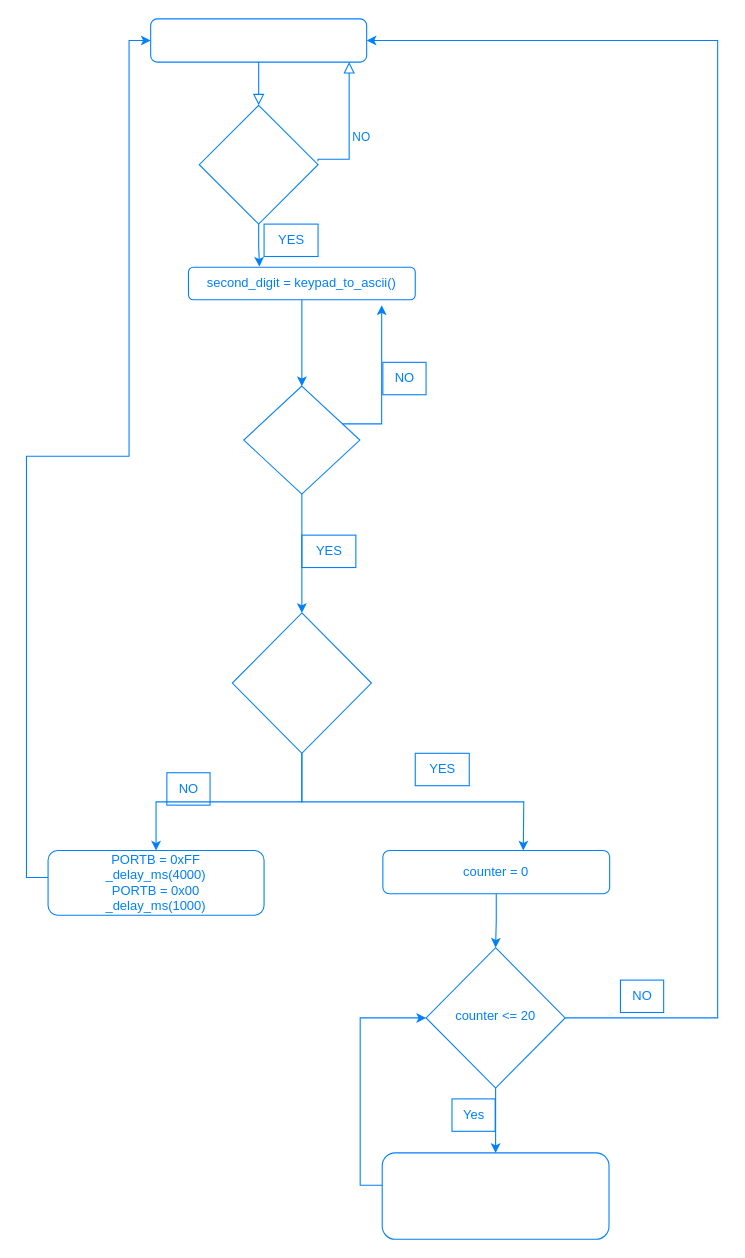
Image size: 745x1258. Some labels were removed from this diagram. The shapes that lost their labels are listed below. From the top down, each one's centre as x and y in pixels, then its label:
At (x=258, y=40): "first_digit ← keypad_to_ascii()".
At (x=258, y=164): "first_digit != 0".
At (x=301, y=439): "second_digit != 0".
At (x=301, y=682): "first_digit != '1' or second_digit != '7'".
At (x=495, y=1195): "PORTB = 0xFF _delay_ms(250) PORTB = 0x00 _delay_ms(250) counter+= 2".
